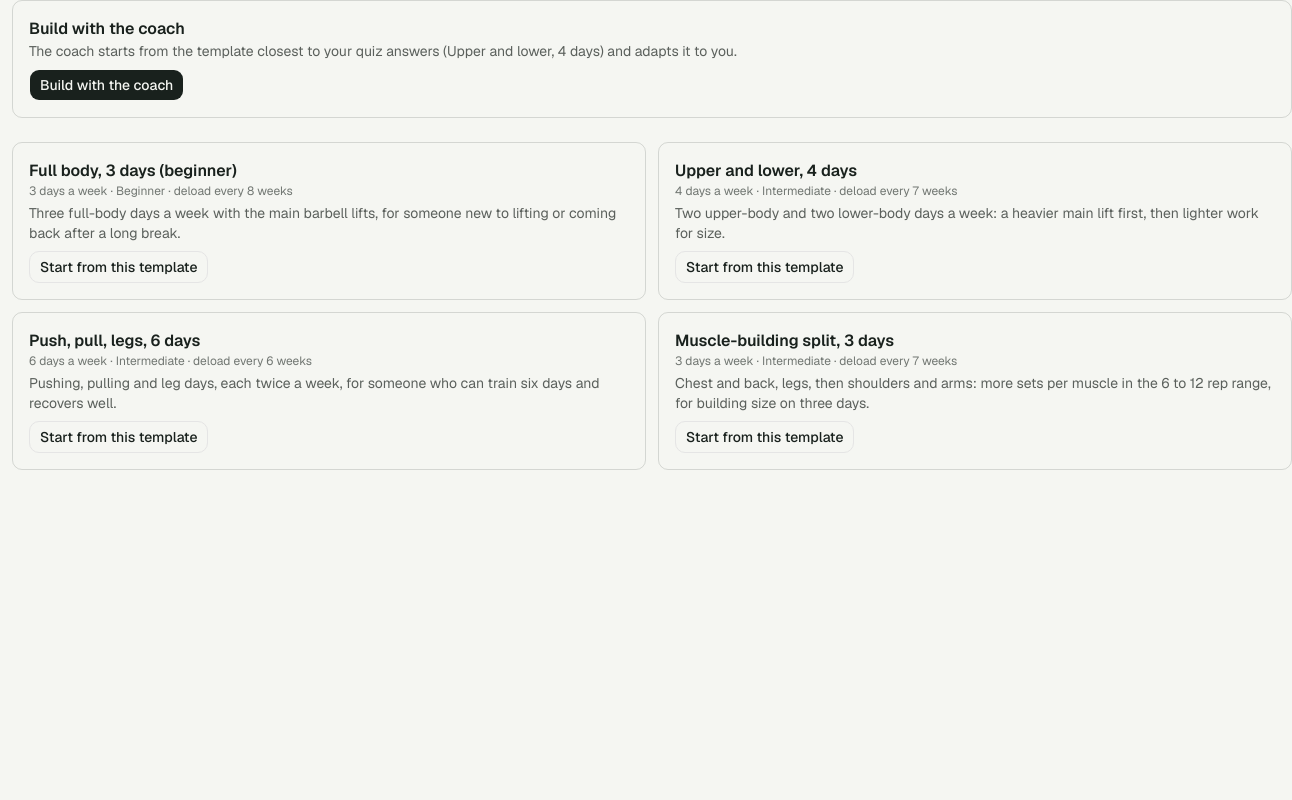
ProgramBuilder › adapts the picked template and opens its review
Click the button with aria-label "Start from Push, pull, legs, 6 days": (119, 437) 29,421 -> 208,453
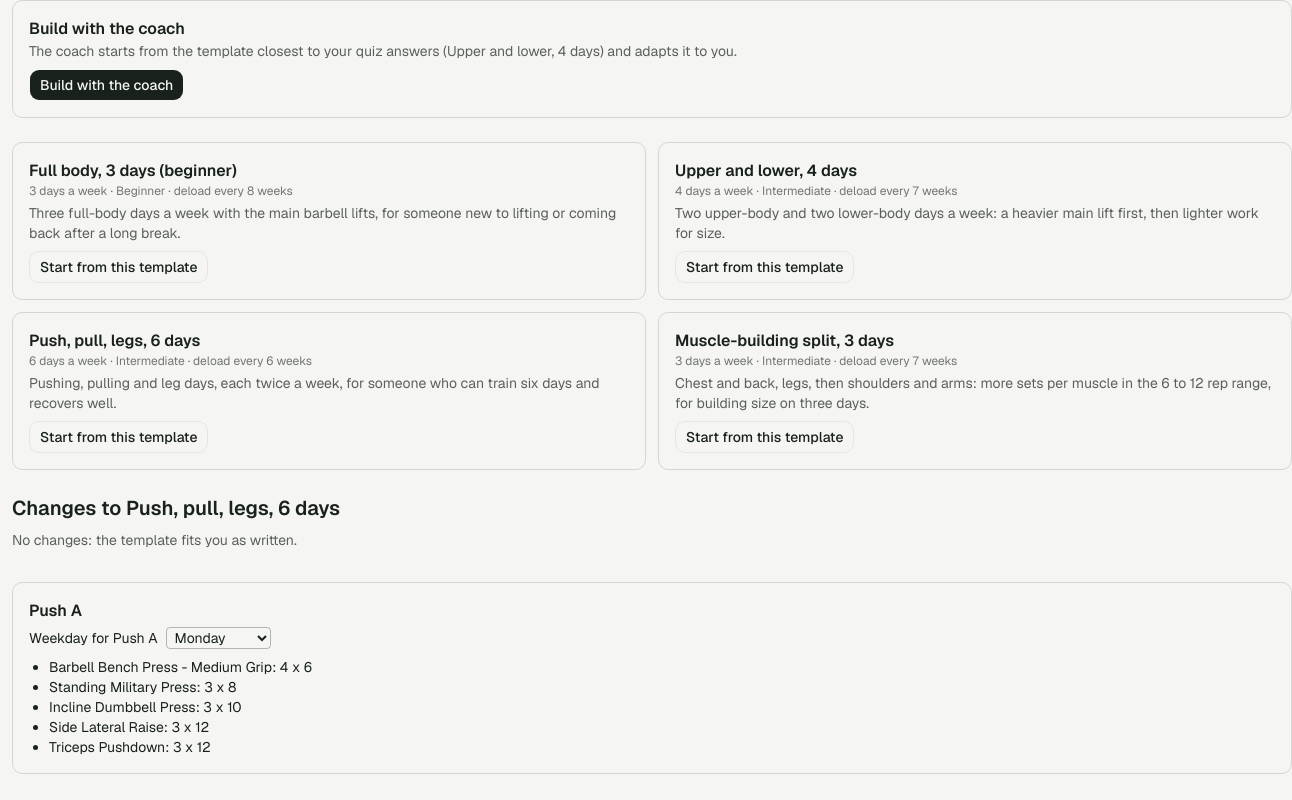
Expected: the heading "Changes to Push, pull, legs, 6 days" is shown, 12,495 -> 340,521
